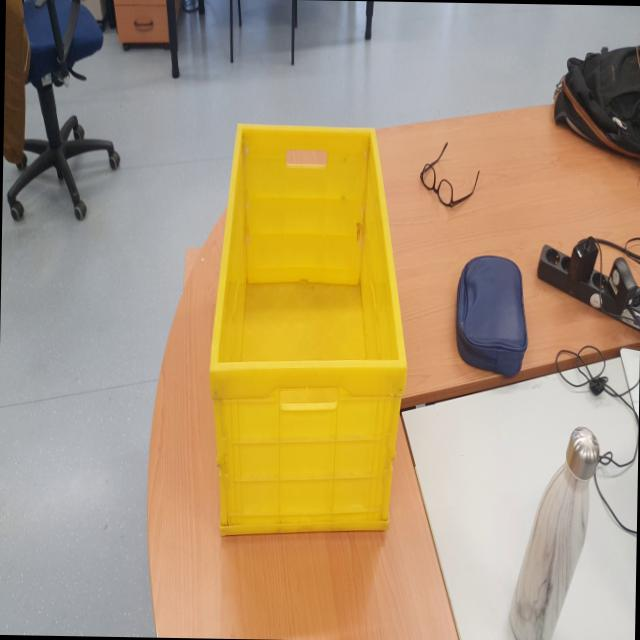box: (194, 105, 416, 602)
